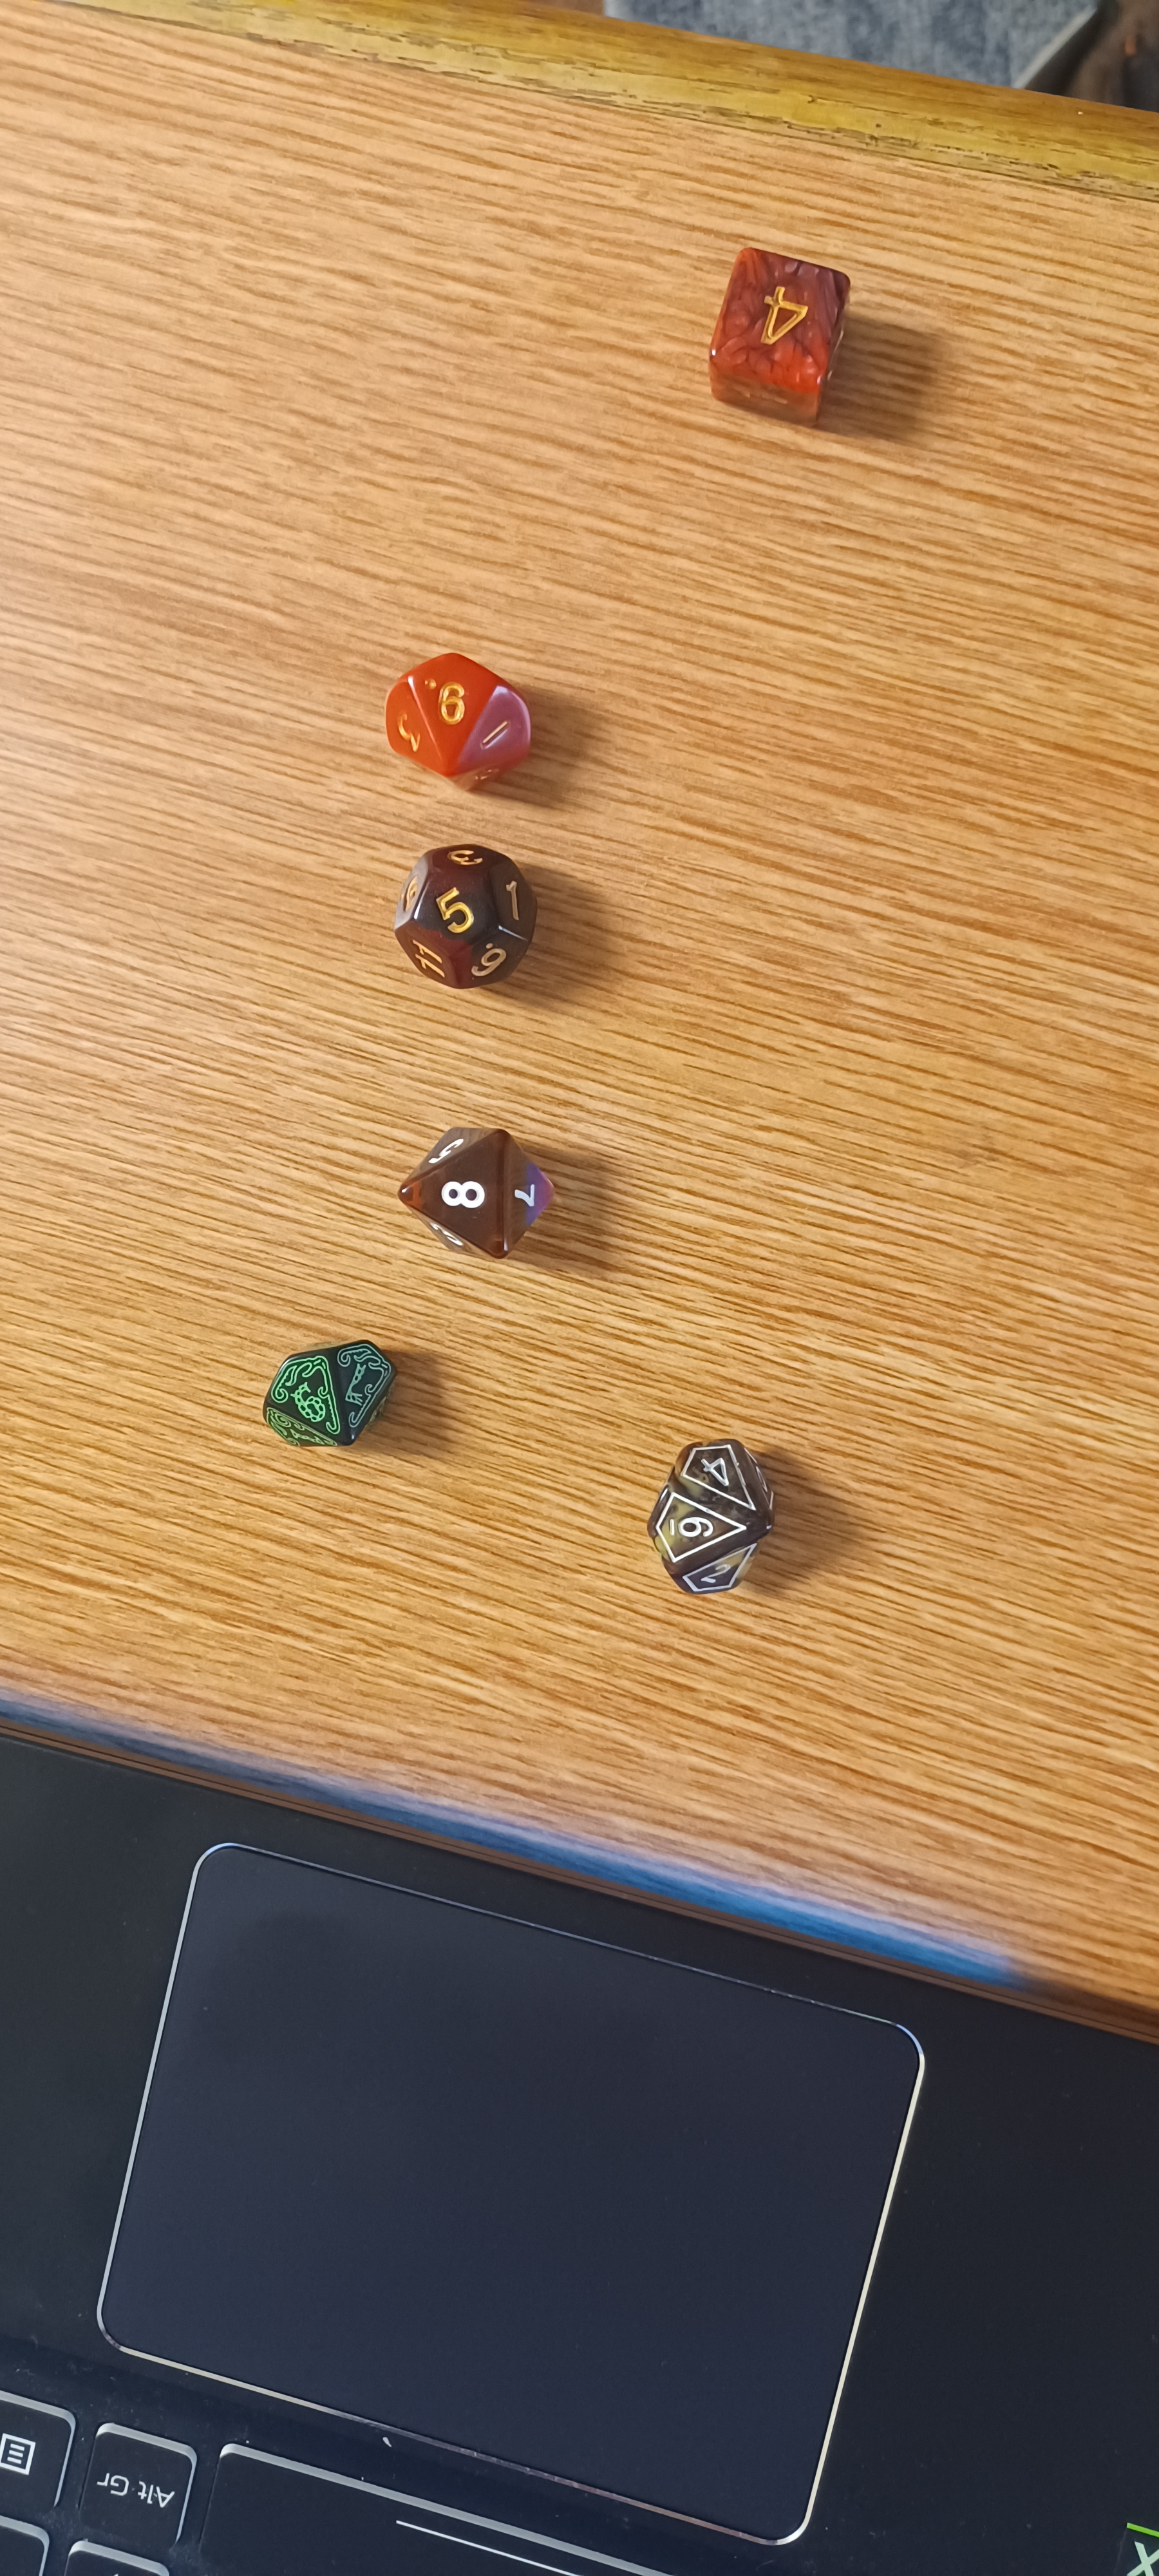eight: (345, 1088, 619, 1290)
five: (371, 816, 583, 1007)
four: (642, 200, 932, 473)
nine: (348, 621, 583, 812), (205, 1285, 424, 1487)
six: (558, 1393, 847, 1649)
